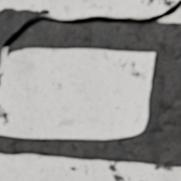brick: (0, 49, 153, 139), (0, 154, 180, 180), (173, 82, 180, 140)
broken_brick: (0, 0, 177, 19), (157, 7, 180, 23)
crack: (0, 0, 180, 64)
